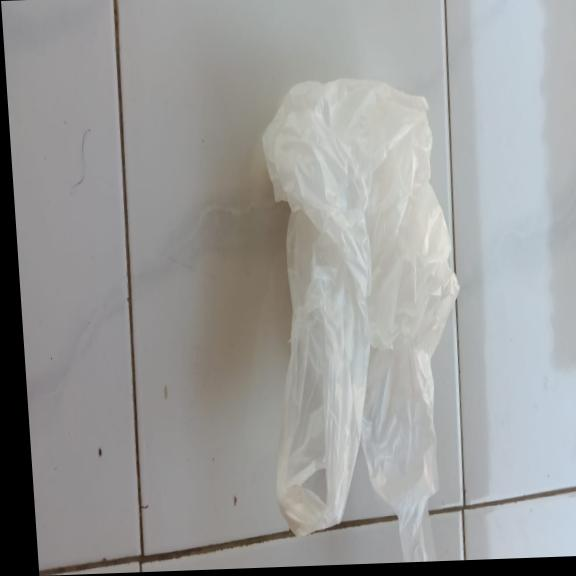Plastik: (246, 75, 476, 567)
